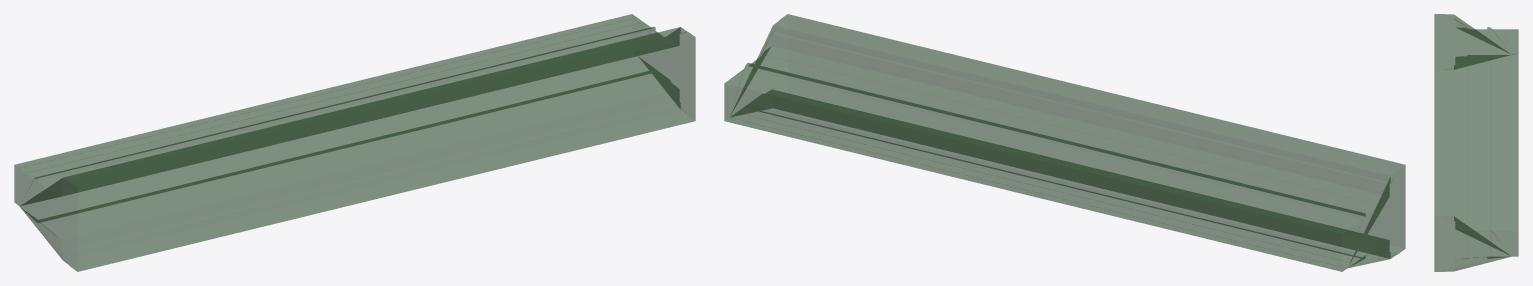
The model's file is USV112.obj.
3 renders of one model, left to right at view 1: azimuth 30°, elevation 25°; view 2: azimuth 150°, elevation 25°; view 3: azimuth 270°, elevation 25°, orthographic. The views are drawn at different scales.
Visible parts, largest first — view 1: USV112; view 2: USV112; view 3: USV112.
Boxes of the visible parts, x1=… form: USV112: x1=14, y1=14, x2=695, y2=271; USV112: x1=724, y1=14, x2=1405, y2=271; USV112: x1=1434, y1=14, x2=1518, y2=271.
Bounding box in the file's own units: 8 × 1.04 × 1.42.
